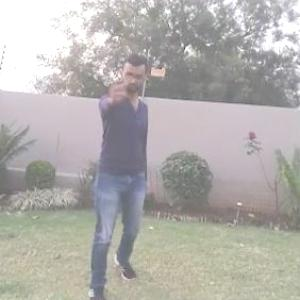takeoff-hand: (100, 81, 131, 109)
